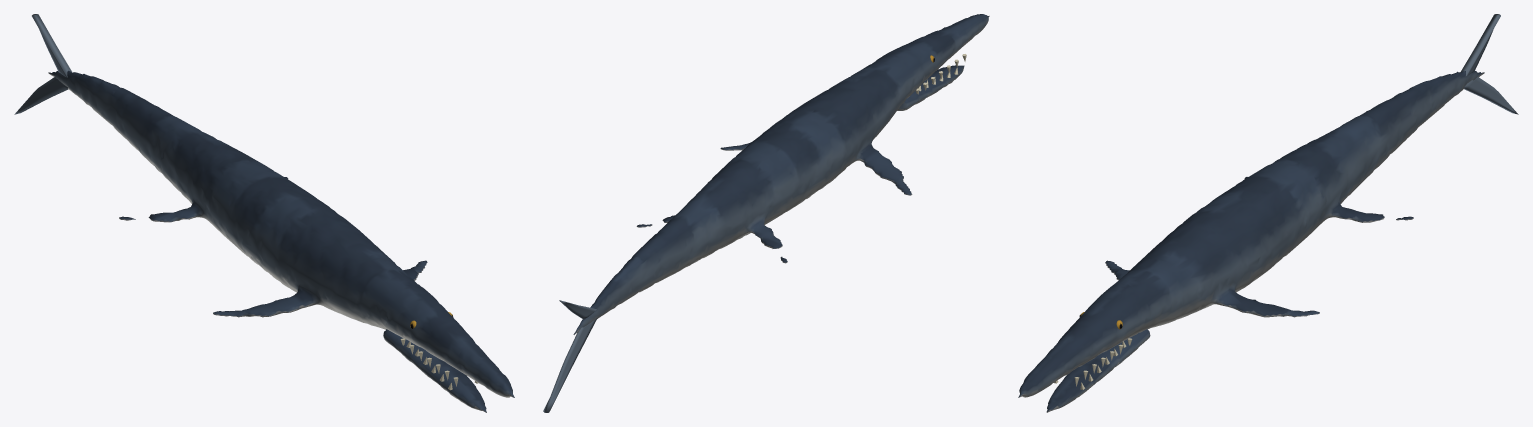
Rendered from Tylosaurus.fbx.
3 views of the same model, side by side, from view 1: azimuth 30°, elevation 25°; view 2: azimuth 150°, elevation 25°; view 3: azimuth 330°, elevation 25° (orthographic). The views are drawn at different scales.
Visible parts, largest first — view 1: Tylosaurus; view 2: Tylosaurus; view 3: Tylosaurus.
Boxes of the visible parts, x1=… form: Tylosaurus: x1=14, y1=14, x2=514, y2=412; Tylosaurus: x1=543, y1=14, x2=989, y2=412; Tylosaurus: x1=1018, y1=14, x2=1518, y2=412.
Size of the model in its own units: 0.5597 by 0.3005 by 2.26.
